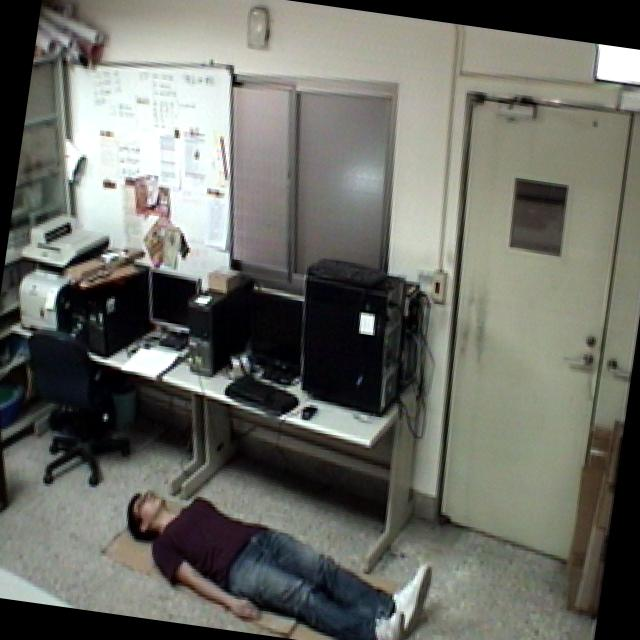lie: (105, 466, 446, 640)
